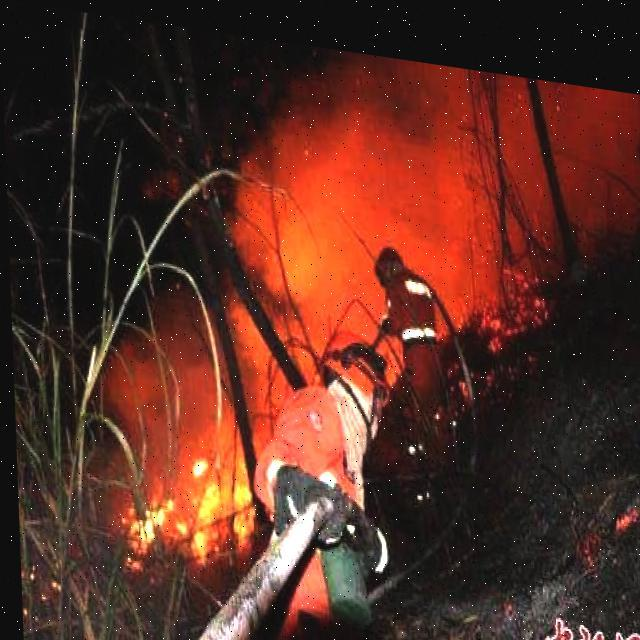Fire: (115, 442, 253, 570), (448, 228, 550, 332), (611, 484, 634, 513)
